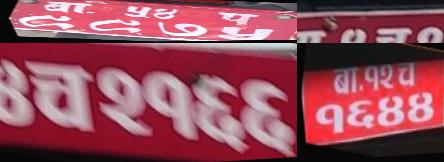1: (120, 66, 211, 160), (309, 97, 349, 141), (358, 62, 382, 97)
2: (79, 62, 162, 154), (403, 23, 444, 43), (375, 63, 398, 94)
4: (0, 50, 45, 138), (370, 91, 407, 135), (401, 86, 436, 132), (326, 21, 371, 43), (142, 8, 188, 21)
5: (204, 25, 283, 41), (110, 5, 159, 19)
6: (171, 70, 259, 162), (222, 73, 297, 162), (343, 95, 379, 136)
7: (140, 21, 218, 39)
9: (72, 17, 155, 36), (5, 12, 85, 31)
ba: (327, 60, 363, 98), (30, 0, 100, 15), (297, 20, 329, 43)
cha: (6, 50, 109, 151), (363, 18, 413, 43), (391, 57, 421, 94)
pa: (202, 11, 266, 27)
